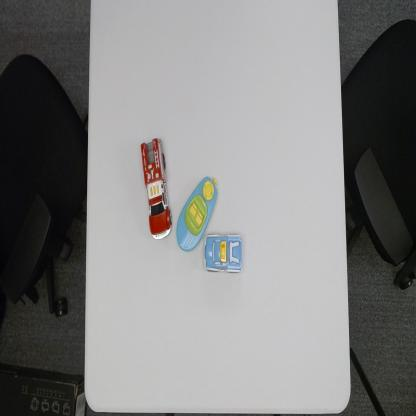Boat: (175, 170, 219, 253)
Car: (204, 234, 244, 274)
Firetruck: (140, 136, 174, 242)
